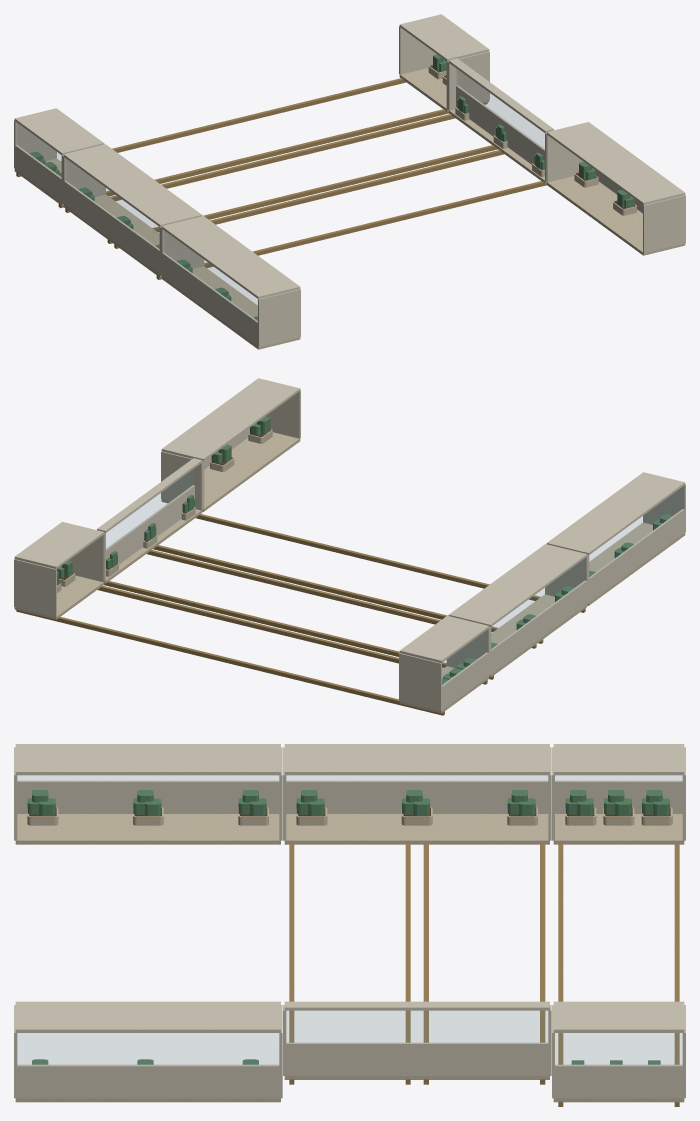
The model's file is D04_STARBOARD_SOUTH_COURTSANDTRANSFER_r001.glb.
3 views of the same model, one above another, from view 1: azimuth 30°, elevation 25°; view 2: azimuth 150°, elevation 25°; view 3: azimuth 270°, elevation 25° (orthographic). The views are drawn at different scales.
Visible parts, largest first — view 1: D04SFH_D04HC_west_Roof, D04SFH_D04HC_east_Roof, D04SFH_D04HC2_east_Roof, D04SFH_D04HC_west_Floor, D04SFH_D04HC_east_PrivacyScreen, D04SFH_D04HC2_east_PrivacyScreen, D04SFH_D04HC3_west_Roof, D04SFH_D04HC_east_GlassUpper, D04SFH_D04HC3_east_Roof, D04SFH_D04HC_west_End_1, D04SFH_D04HC_east_End_1, D04SFH_D04HC2_east_GlassUpper (+21 smaller); view 2: D04SFH_D04HC_west_Roof, D04SFH_D04HC_east_Roof, D04SFH_D04HC2_east_Roof, D04SFH_D04HC_west_Floor, D04SFH_D04HC_east_PrivacyScreen, D04SFH_D04HC2_east_PrivacyScreen, D04SFH_D04H3_SharedTransfer_0, D04SFH_D04HC3_east_Roof, D04SFH_D04HC3_west_Roof, D04SFH_D04HC2_east_GlassUpper, D04SFH_D04HC_east_GlassUpper, D04SFH_D04HC3_west_End_0 (+21 smaller); view 3: D04SFH_D04HC_west_PrivacyScreen, D04SFH_D04HC2_west_PrivacyScreen, D04SFH_D04HC_west_Roof, D04SFH_D04HC_east_Roof, D04SFH_D04HC2_east_Roof, D04SFH_D04HC_west_GlassUpper, D04SFH_D04HC2_west_GlassUpper, D04SFH_D04HC_east_PrivacyScreen, D04SFH_D04HC2_east_PrivacyScreen, D04SFH_D04HC_east_Floor, D04SFH_D04HC2_east_Floor, D04SFH_D04HC3_west_PrivacyScreen (+18 smaller).
Part boxes in pixels (x1,y1,x2,y2): D04SFH_D04HC_west_Roof: (546,122,685,205); D04SFH_D04HC_east_Roof: (161,216,300,299); D04SFH_D04HC2_east_Roof: (63,144,202,227); D04SFH_D04HC_west_Floor: (546,176,685,255); D04SFH_D04HC_east_PrivacyScreen: (161,252,258,346); D04SFH_D04HC2_east_PrivacyScreen: (63,181,160,274); D04SFH_D04HC3_west_Roof: (399,14,489,61); D04SFH_D04HC_east_GlassUpper: (164,231,257,320); D04SFH_D04HC3_east_Roof: (14,108,104,155); D04SFH_D04HC_west_End_1: (643,195,685,253); D04SFH_D04HC_east_End_1: (258,289,300,347); D04SFH_D04HC2_east_GlassUpper: (66,159,159,248); D04SFH_D04HC_west_Roof: (161,378,300,461); D04SFH_D04HC_east_Roof: (546,472,685,555); D04SFH_D04HC2_east_Roof: (448,544,587,627); D04SFH_D04HC_west_Floor: (161,432,300,511); D04SFH_D04HC_east_PrivacyScreen: (588,509,684,602); D04SFH_D04HC2_east_PrivacyScreen: (491,580,587,673); D04SFH_D04H3_SharedTransfer_0: (16,610,444,715); D04SFH_D04HC3_east_Roof: (399,615,489,663); D04SFH_D04HC3_west_Roof: (14,522,104,569); D04SFH_D04HC2_east_GlassUpper: (491,559,584,649); D04SFH_D04HC_east_GlassUpper: (589,487,682,576); D04SFH_D04HC3_west_End_0: (14,559,56,617); D04SFH_D04HC_west_PrivacyScreen: (15,1064,280,1098); D04SFH_D04HC2_west_PrivacyScreen: (284,1042,549,1075); D04SFH_D04HC_west_Roof: (15,1001,280,1032); D04SFH_D04HC_east_Roof: (15,744,280,775); D04SFH_D04HC2_east_Roof: (284,744,549,775); D04SFH_D04HC_west_GlassUpper: (17,1033,279,1065); D04SFH_D04HC2_west_GlassUpper: (286,1011,547,1043); D04SFH_D04HC_east_PrivacyScreen: (17,780,279,813); D04SFH_D04HC2_east_PrivacyScreen: (286,780,548,813); D04SFH_D04HC_east_Floor: (15,814,280,844); D04SFH_D04HC2_east_Floor: (284,814,549,844); D04SFH_D04HC3_west_PrivacyScreen: (553,1064,684,1098).
Size of the model in its own units: 37.2 by 4.68 by 36.98.
6 materials, 4 textured.
